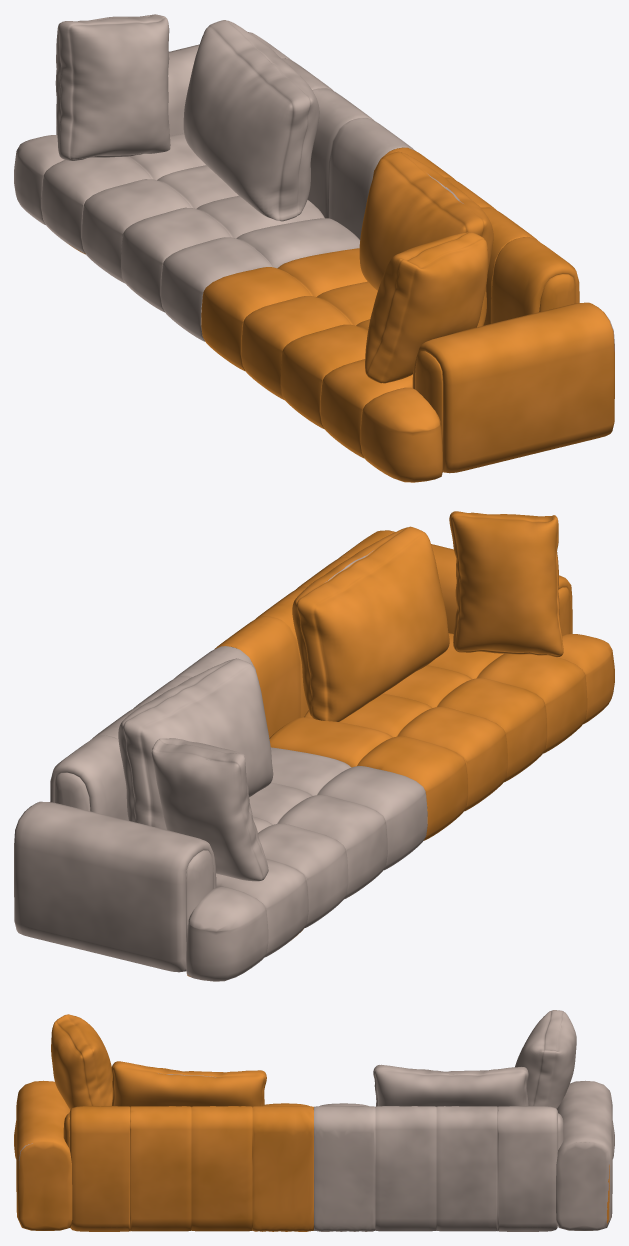
The model's file is Puffy Sofa-t.glb.
3 renders of one model, top to bottom at view 1: azimuth 30°, elevation 25°; view 2: azimuth 150°, elevation 25°; view 3: azimuth 270°, elevation 25°, orthographic. The views are drawn at different scales.
Visible parts, largest first — view 1: Puffy Sofa; view 2: Puffy Sofa; view 3: Puffy Sofa.
Part boxes in pixels (x1=…): Puffy Sofa: x1=14, y1=14, x2=614, y2=482; Puffy Sofa: x1=14, y1=511, x2=614, y2=981; Puffy Sofa: x1=14, y1=1010, x2=614, y2=1231.
Bounding box in the file's own units: 0.9659 × 0.8578 × 3.
2 materials, 2 textured.
